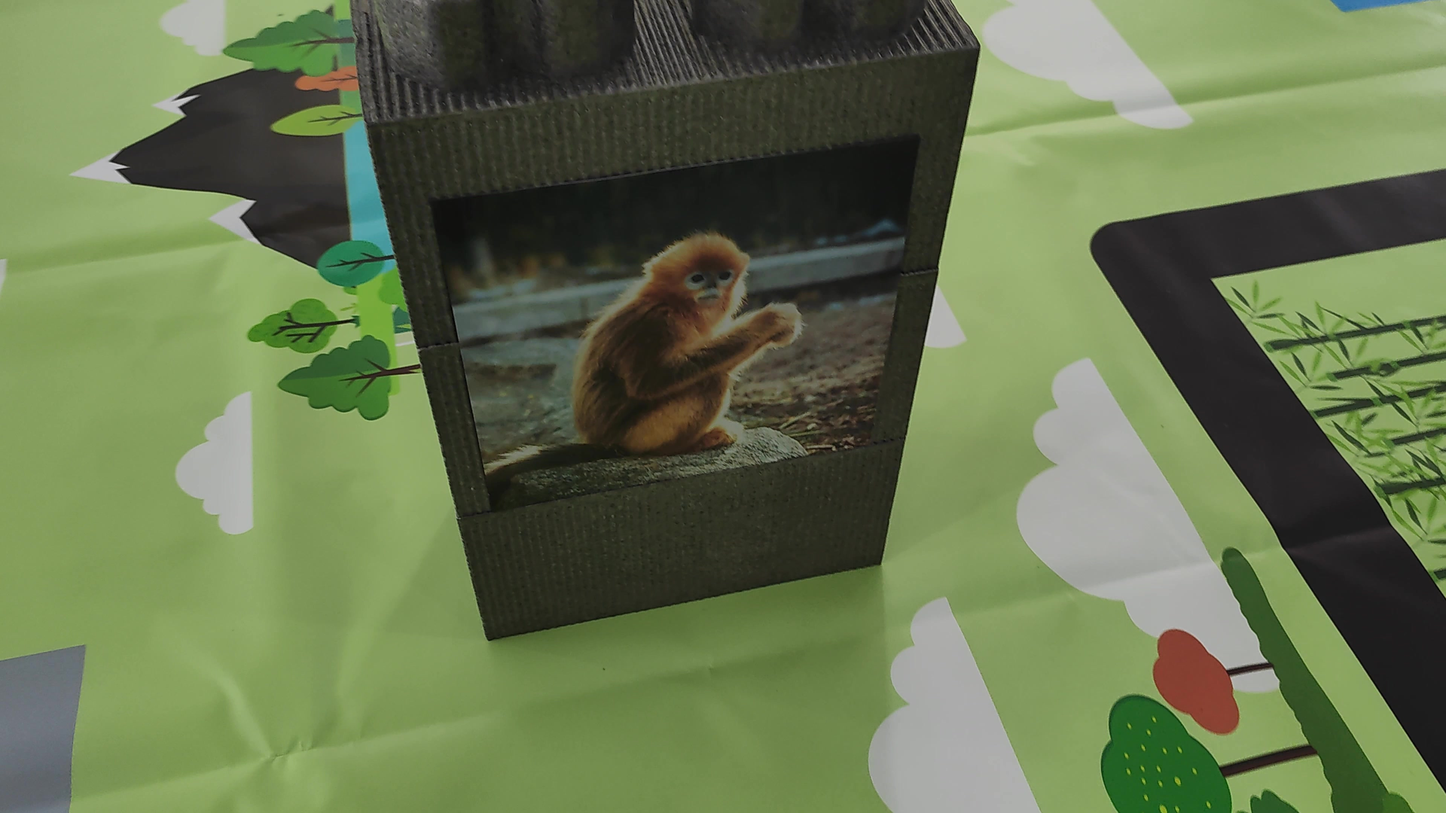monkey: (529, 202, 835, 481)
